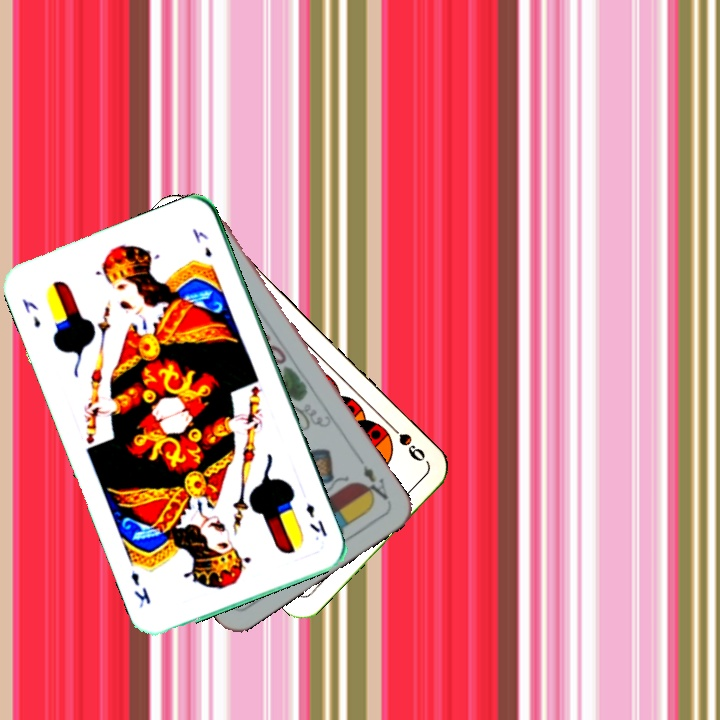EA: (357, 461, 391, 506)
EK: (301, 499, 330, 539), (18, 294, 44, 331)
S9: (383, 418, 428, 464)
